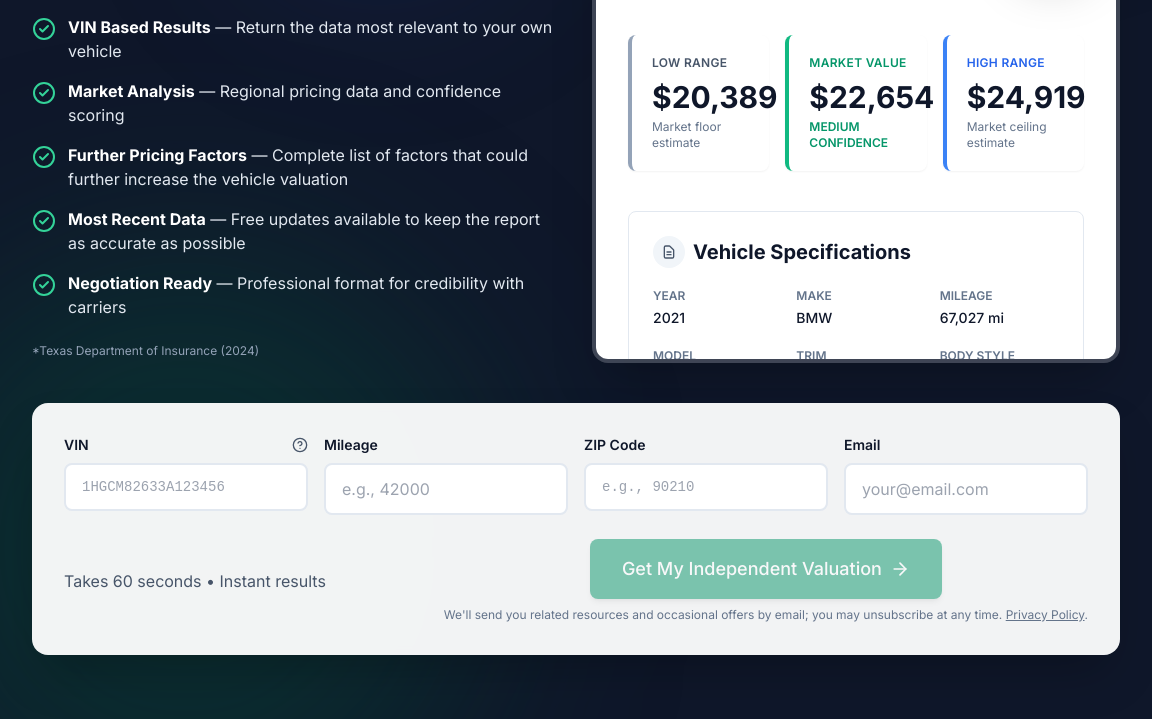
Test: Hero › enables submit when all fields including a valid email are filled
(page scrolled)
Type "1HGCM82633A004352" into the field labelled "VIN".
click(186, 487); type("1HGCM82633A004352")  # box [64,463,308,511]
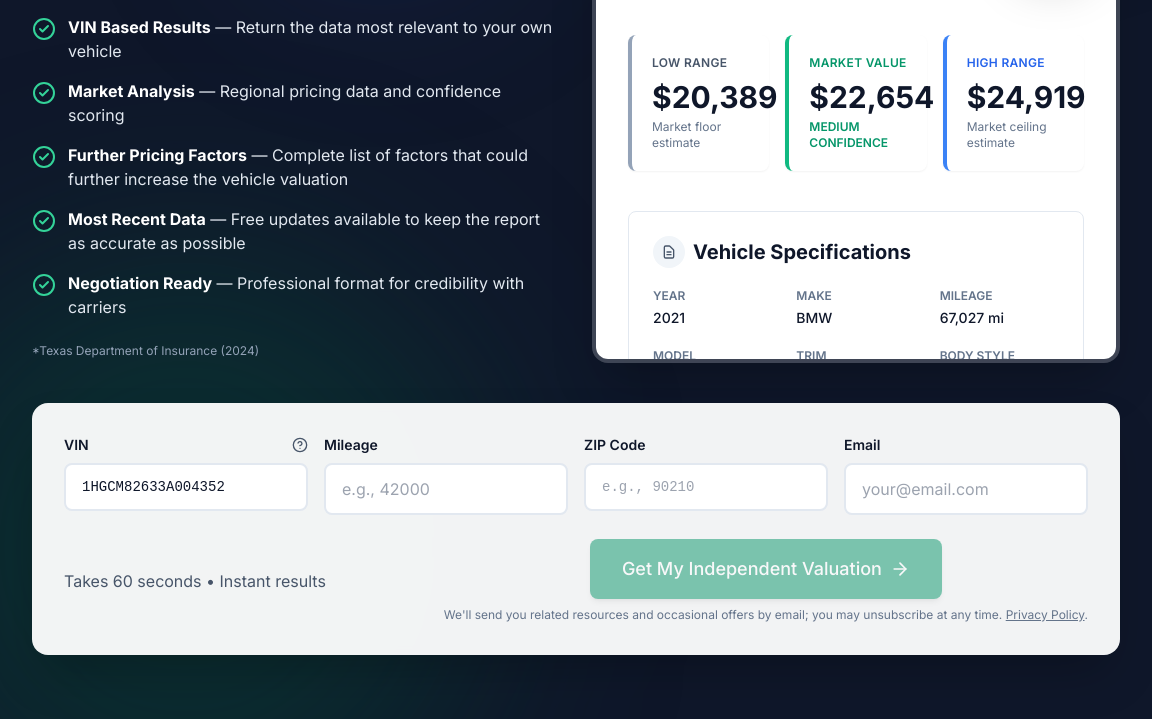
Type "50000" into the number field labelled "Mileage".
click(446, 489); type("50000")  # box [324,463,568,515]
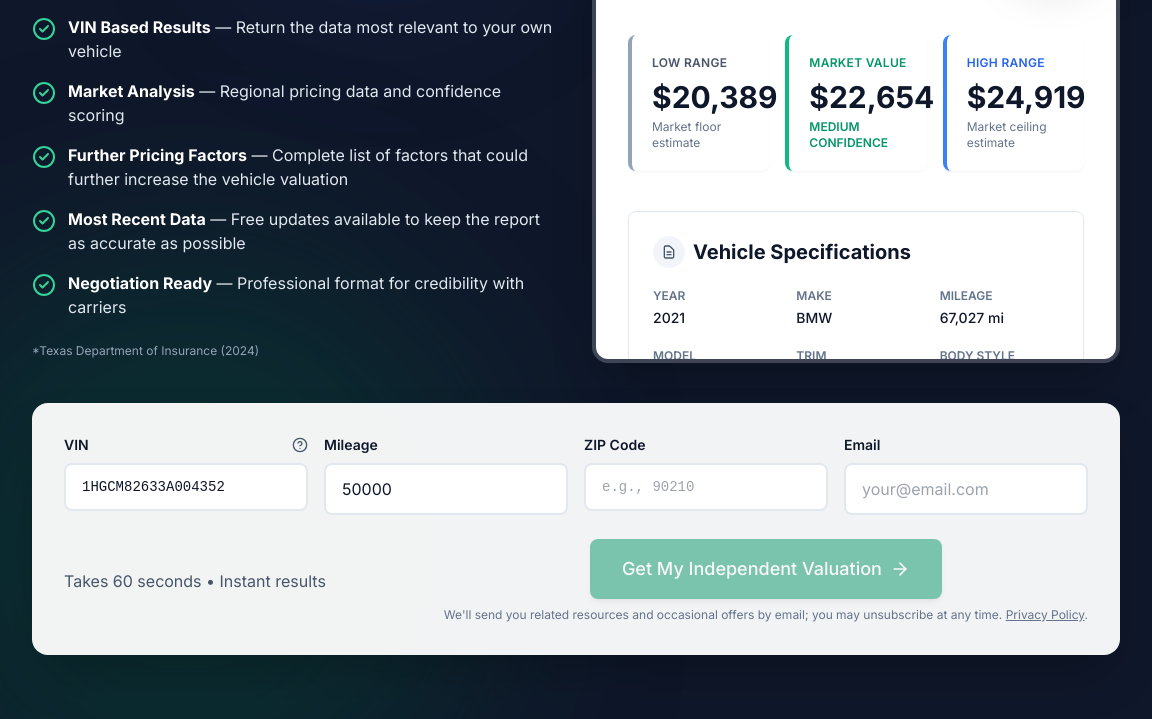
Type "90210" into the field labelled "ZIP Code".
click(706, 487); type("90210")  # box [584,463,828,511]
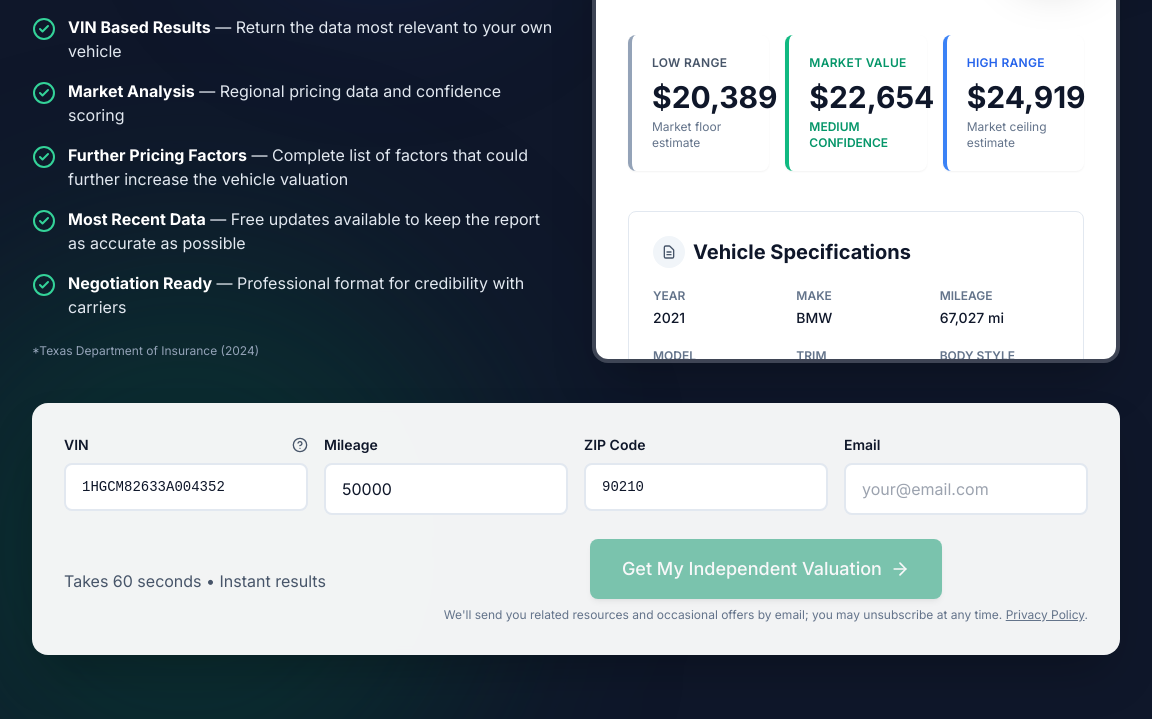
Type "test@example.com" into the field labelled "Email".
click(966, 489); type("test@example.com")  # box [844,463,1088,515]
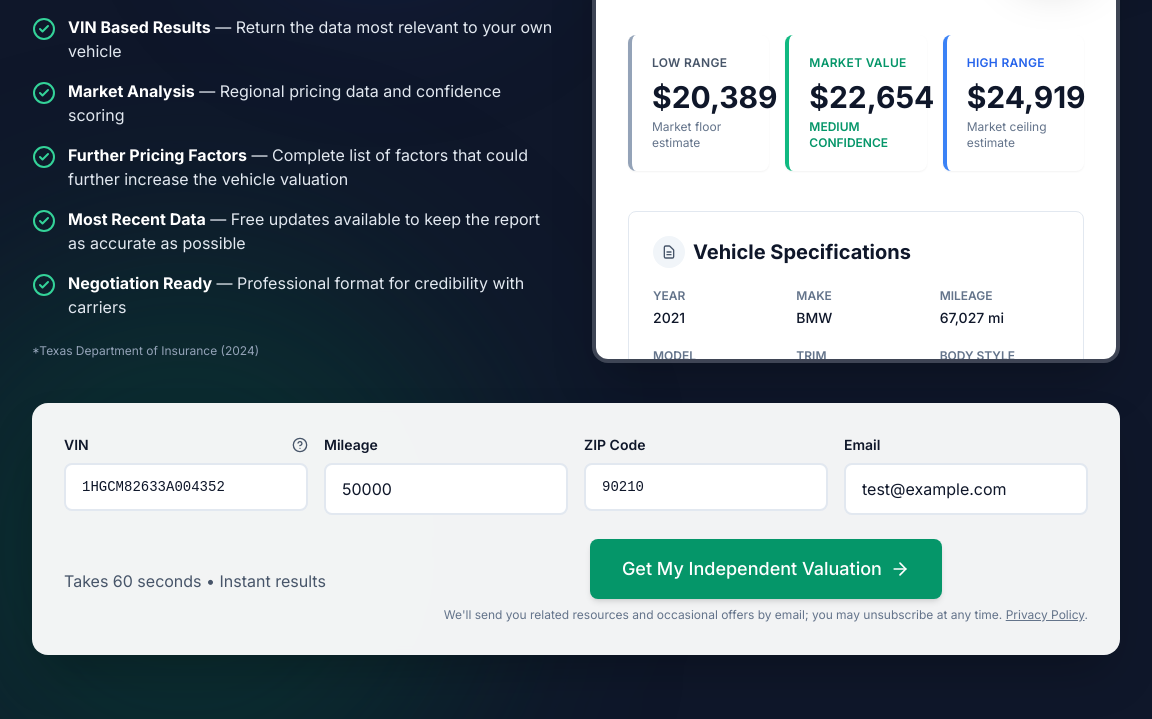
Result: the button "Get My Independent Valuation" is enabled at [590,539,942,599]
